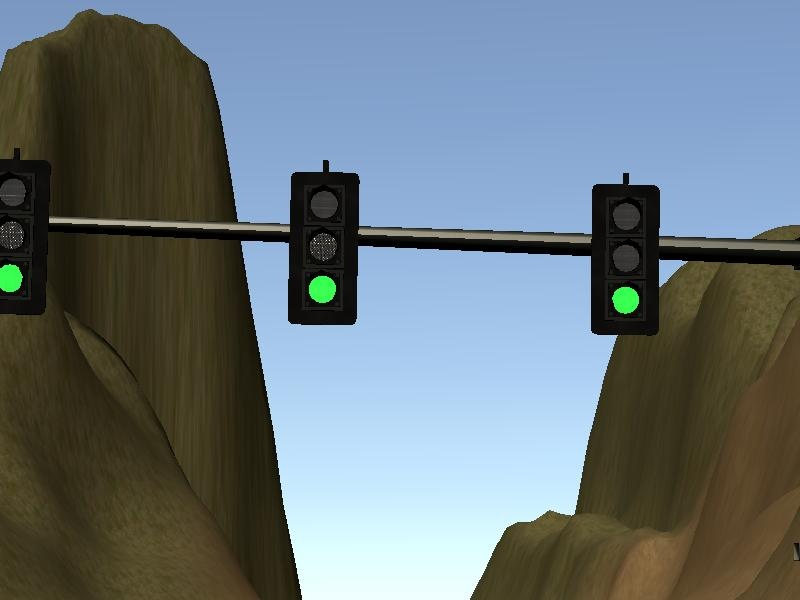GREEN: (288, 169, 360, 327), (591, 183, 662, 337), (1, 159, 50, 315)
